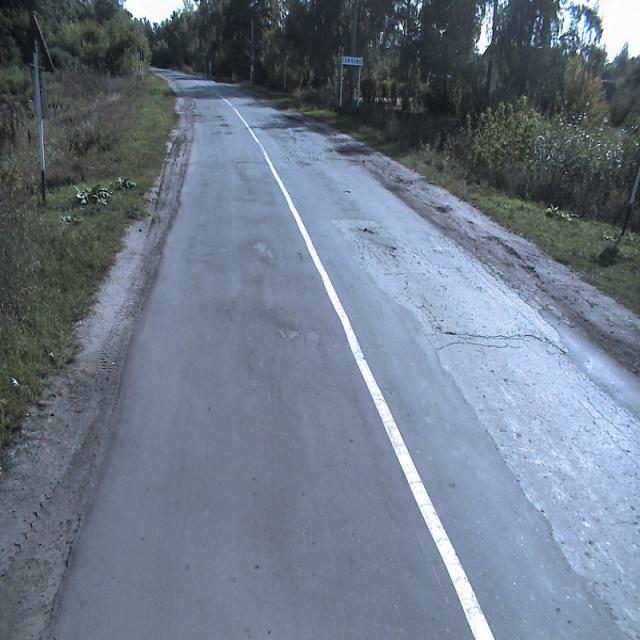road: (41, 67, 639, 639)
